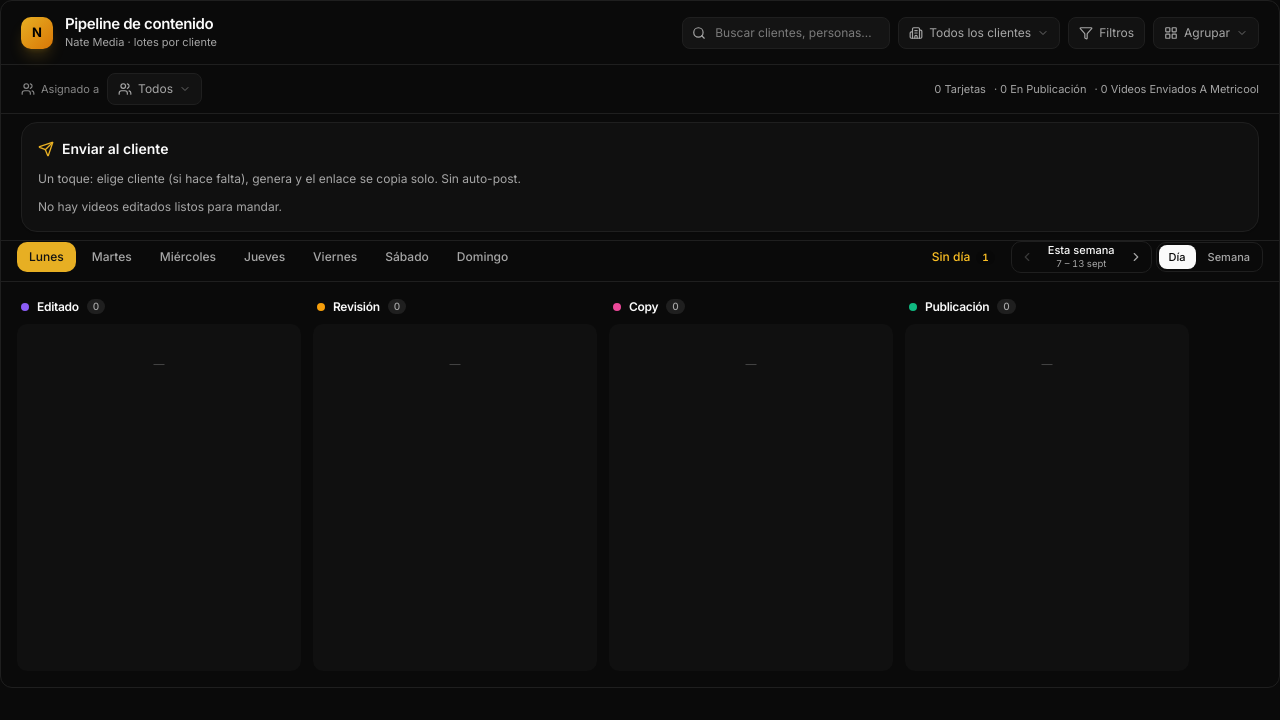
Test case: EntregasBoard — batch model › bloquea el envío sin fecha y pide corregirla
Sin fecha el video vive en la pestaña "Sin día", no en un día concreto.
Step 1. Click the button "Sin día 1" → (963, 257), box [920,242,1007,272]
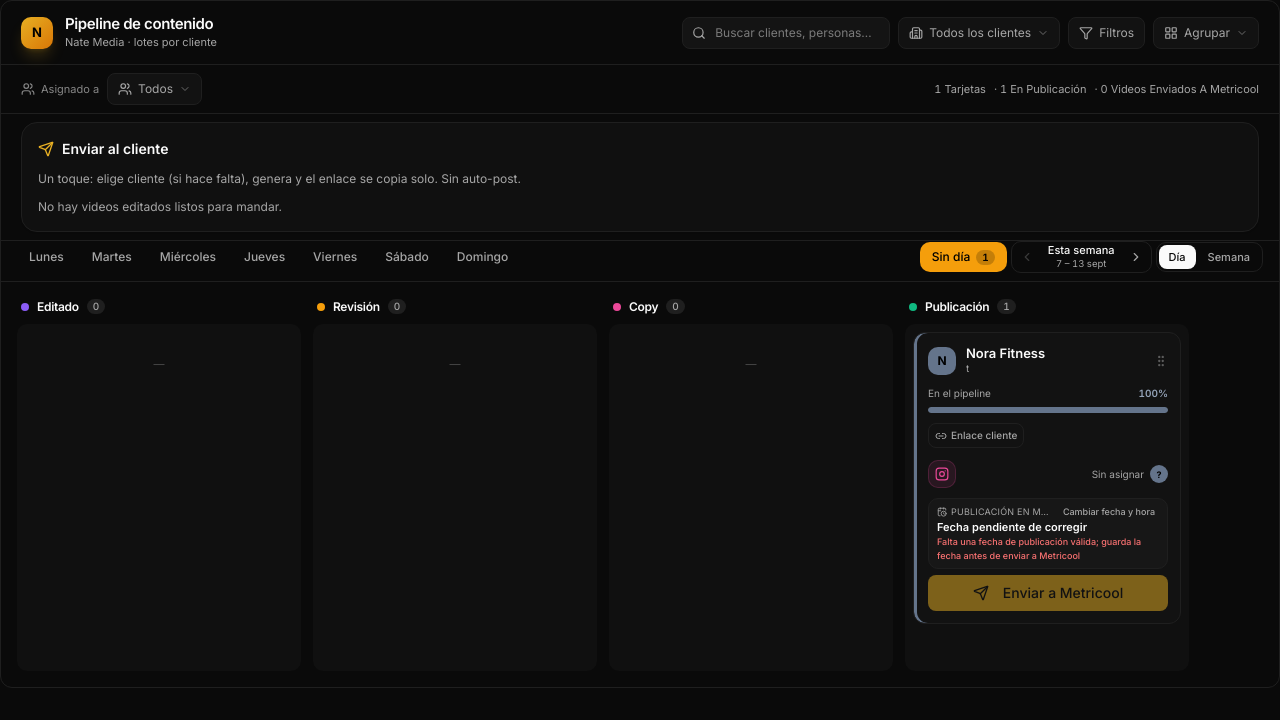
Expected: the text "Falta una fecha" is shown, [937,536,1141,561]
Expected: the button "Enviar a Metricool" is disabled, [928,575,1168,611]
